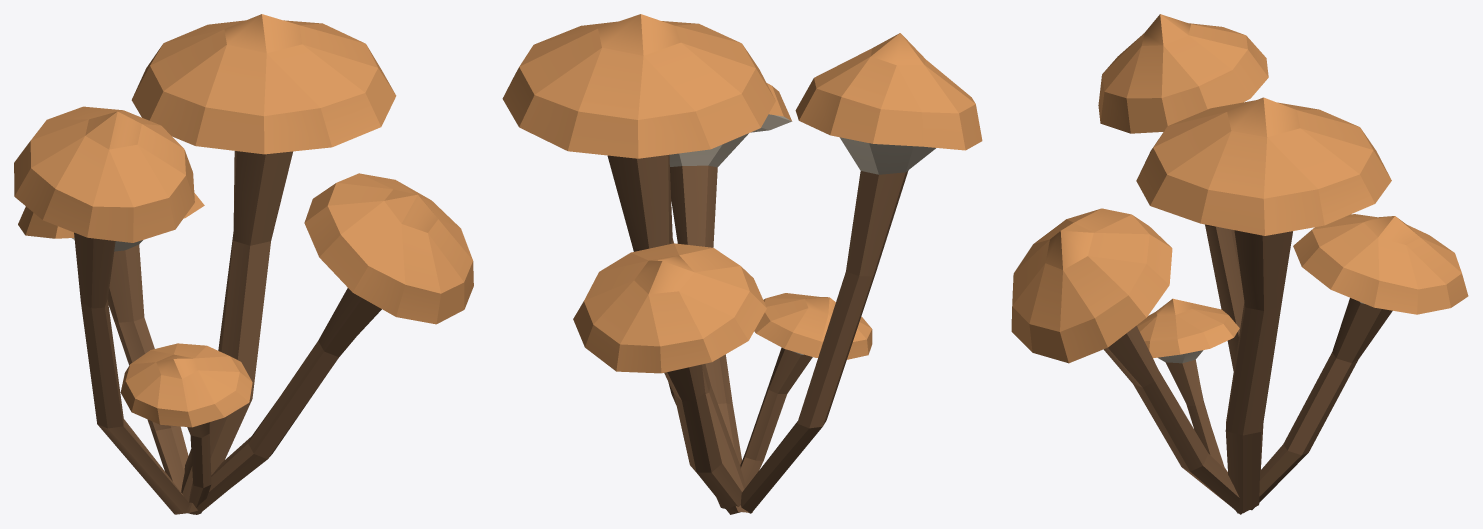
File: Armillaria_2.fbx
3 renders of one model, left to right at view 1: azimuth 30°, elevation 25°; view 2: azimuth 150°, elevation 25°; view 3: azimuth 270°, elevation 25°, orthographic. The views are drawn at different scales.
Parts seen in each view (by area): view 1: Group13460; view 2: Group13460; view 3: Group13460.
Part boxes in pixels (x1,y1,x2,y2): Group13460: (14,14,473,514); Group13460: (502,14,982,514); Group13460: (1011,14,1468,514).
Size of the model in its own units: 63.05 by 70.89 by 64.89.
